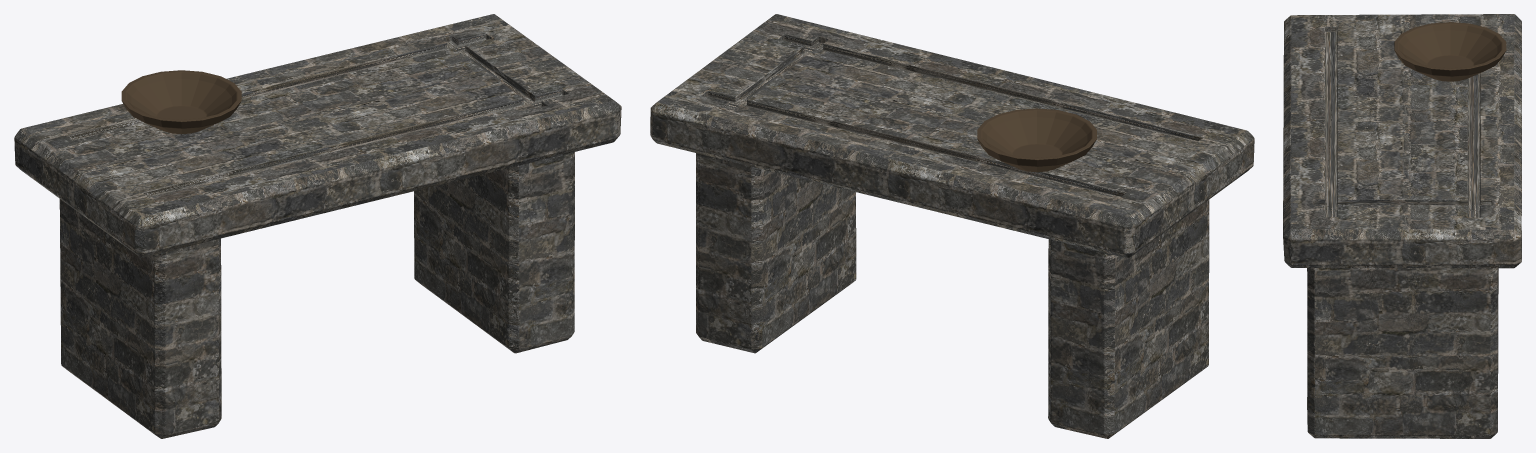
File: ritual-table-v01.glb
3 renders of one model, left to right at view 1: azimuth 30°, elevation 25°; view 2: azimuth 150°, elevation 25°; view 3: azimuth 270°, elevation 25°, orthographic. The views are drawn at different scales.
Parts seen in each view (by area): view 1: ritual-table; view 2: ritual-table; view 3: ritual-table.
Boxes of the visible parts, <box> form: ritual-table: <box>14,14,621,438</box>; ritual-table: <box>650,14,1254,438</box>; ritual-table: <box>1283,14,1521,438</box>.
Size of the model in its own units: 2.21 by 1.16 by 1.
Materials: 2 (2 with a texture image).
